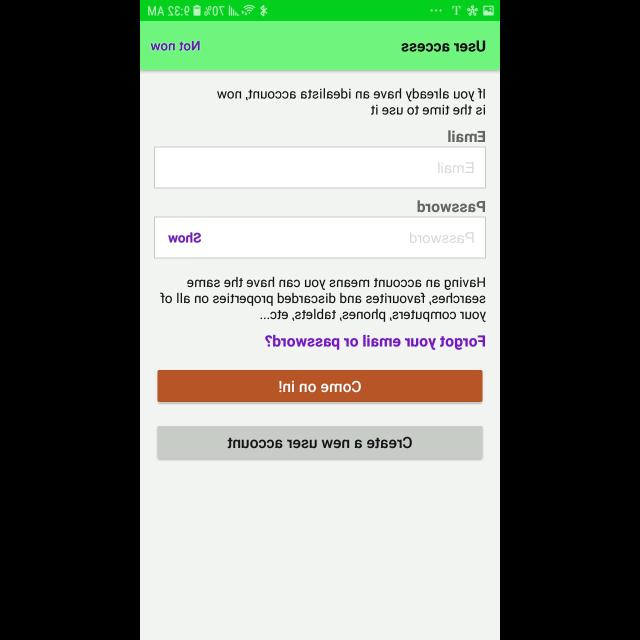input: (154, 217, 486, 259), (154, 147, 486, 189)
text: (160, 277, 486, 323), (217, 88, 485, 115), (265, 334, 485, 350), (401, 40, 485, 52), (417, 201, 485, 213), (410, 232, 474, 244), (150, 41, 200, 51), (448, 131, 484, 143), (438, 162, 472, 174), (168, 232, 200, 244)
textbutton: (158, 426, 482, 458), (158, 370, 482, 402)
uppertaskbar: (140, 1, 500, 22)
